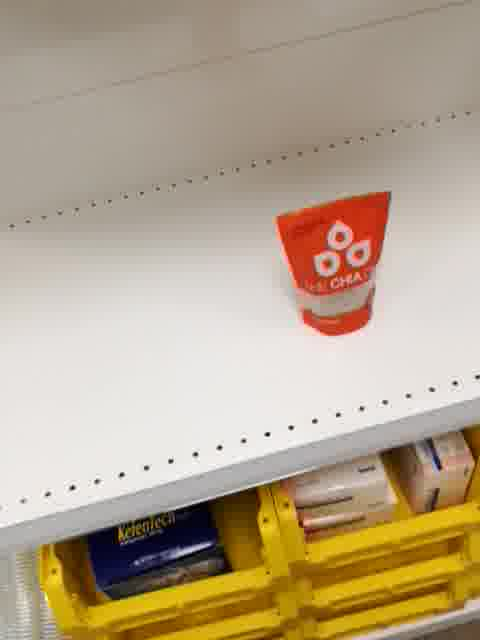whitechia: (274, 189, 392, 339)
